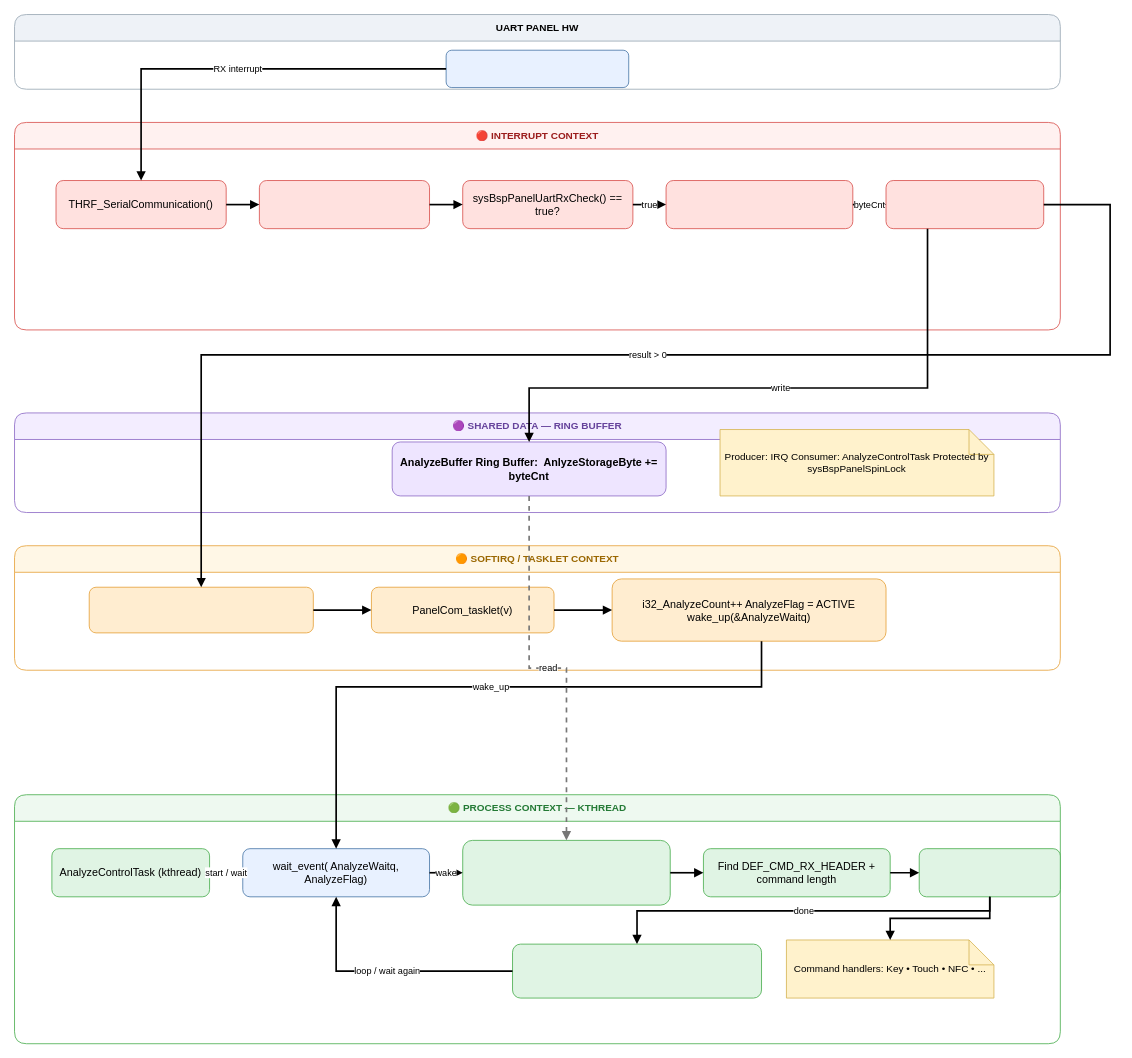
Image size: 1132x1058. Some labels were removed from this diagram. Here are the shapes that lost their labels. From the top down, the centre of each, then its label:
At pixel 537 68: "UART RX data / FIFO".
At pixel 344 204: "SerialComProsess() &pPnlComManage".
At pixel 759 204: "RxSerialCommunication() sysBspPanelUartRxChar()".
At pixel 964 204: "SetAnalyzeRingBuffer() buf, byteCnt".
At pixel 200 609: "tasklet_schedule(&pIntTasklet)".
At pixel 566 872: "AnalyzeReceiveData() SpinLock → read AnalyzeBuffer".
At pixel 989 872: "SerialCommandAnalyze() Dispatch command".
At pixel 637 970: "i32_AnalyzeCount-- Hết việc → AnalyzeFlag = WAIT".
